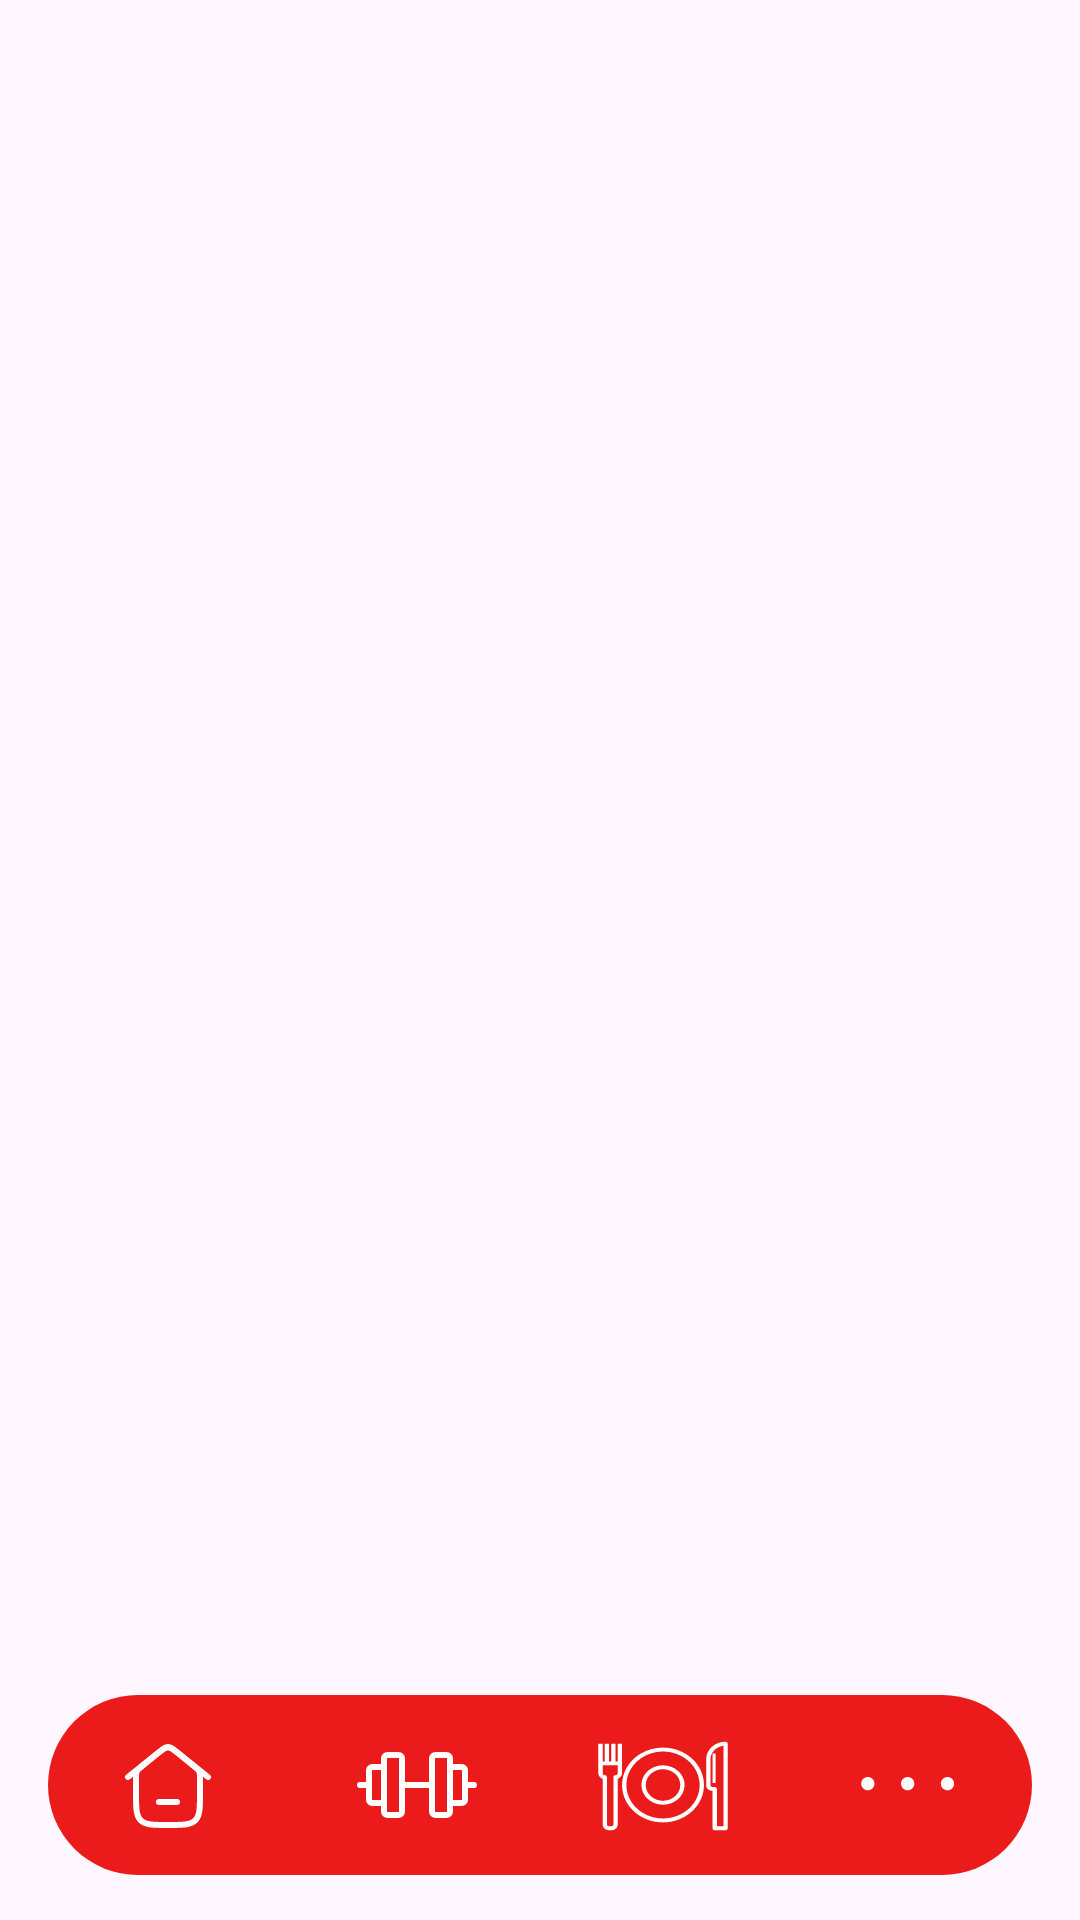

Screen size 1080w x 1920h. Icon name, then its box in pixels as [x1=x1, y1=y1, x2=x2, y2=y2]:
fitness: [x1=357, y1=1752, x2=477, y2=1818]
food: [x1=598, y1=1741, x2=728, y2=1831]
Home: [x1=125, y1=1744, x2=211, y2=1828]
